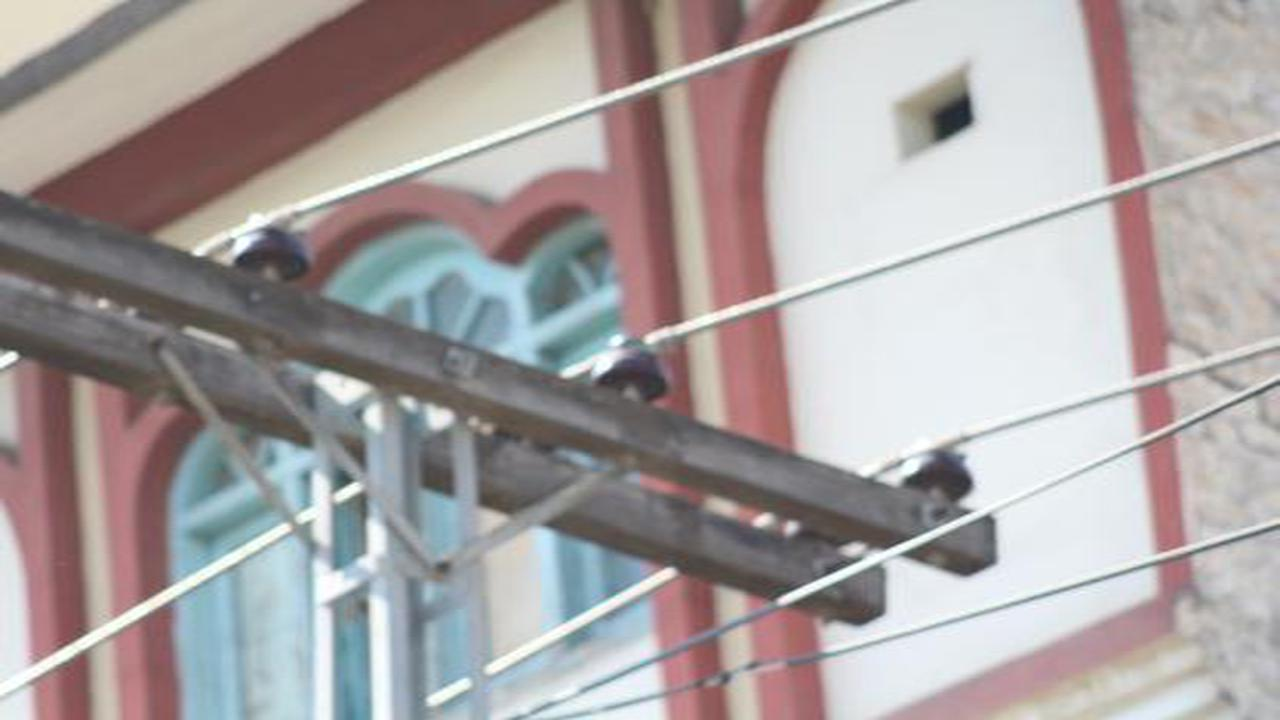insulator_pin: (590, 327, 669, 404), (229, 204, 308, 278), (899, 436, 977, 505)
